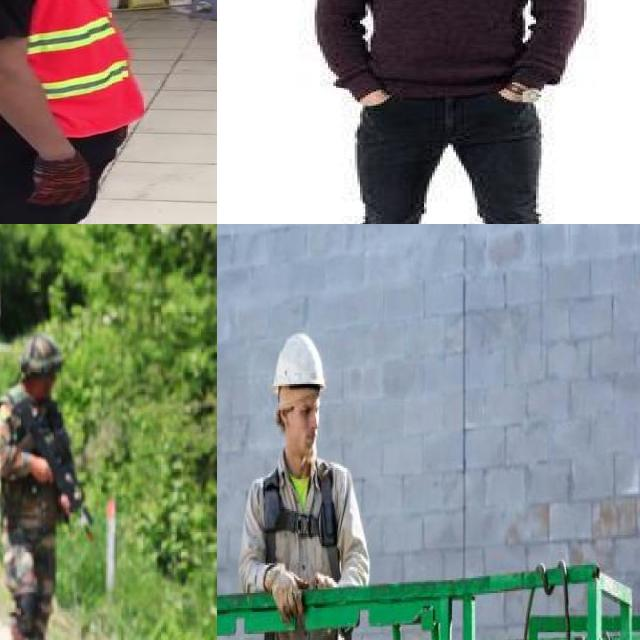Harness: (263, 465, 339, 580)
hand_glove: (30, 155, 96, 206)
hand_noglove: (30, 458, 58, 487)
head_helmet: (13, 330, 62, 380)
person: (309, 0, 586, 224), (0, 0, 187, 224), (0, 334, 89, 640)
vest: (0, 0, 140, 138)
